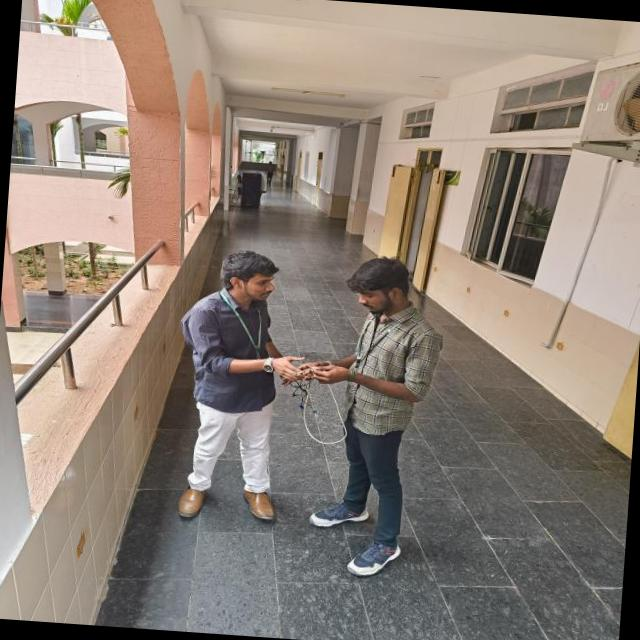id_card: (223, 289, 270, 364), (352, 310, 397, 379)
